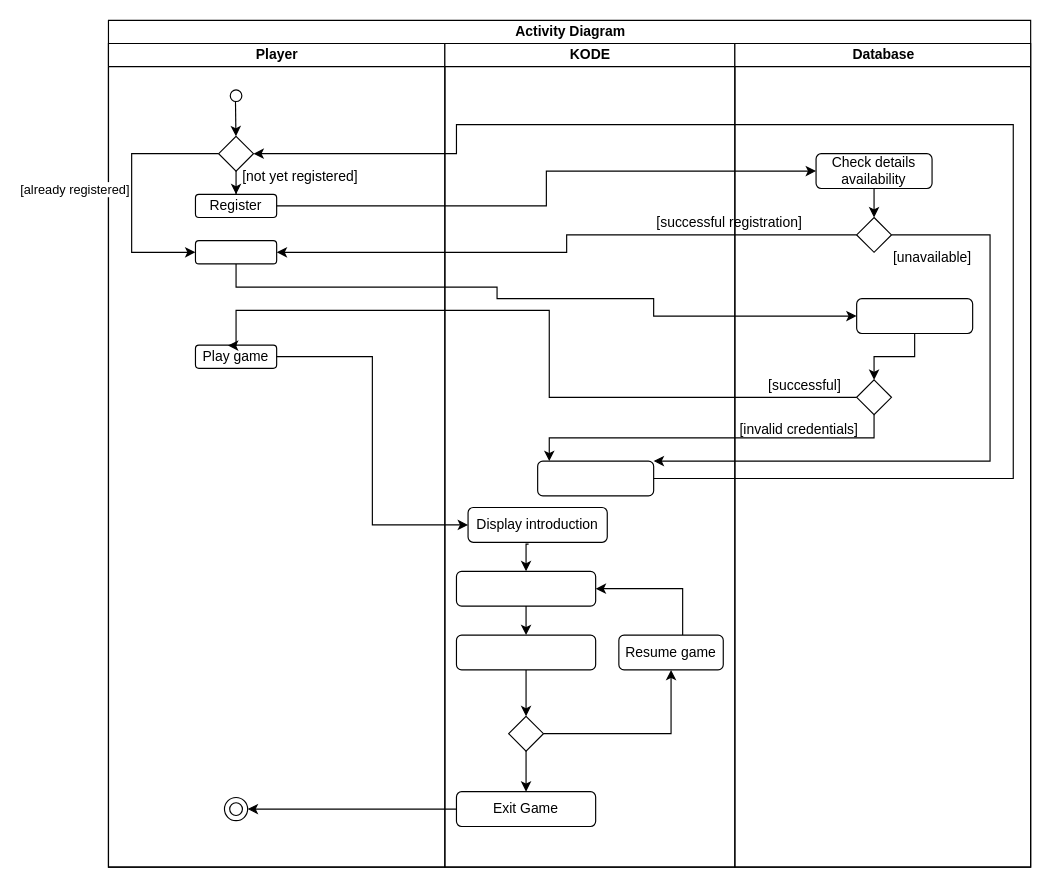
The diagram is 1051 pixels wide and 887 high, and some of its shapes have lost their labels. Each missing label, with the centre of its shape:
"Authorize" belongs at point (914, 316).
"Display error" belongs at point (595, 478).
"Display game menu" belongs at point (525, 652).
"Display game proper" belongs at point (525, 588).
"Login" belongs at point (235, 252).
